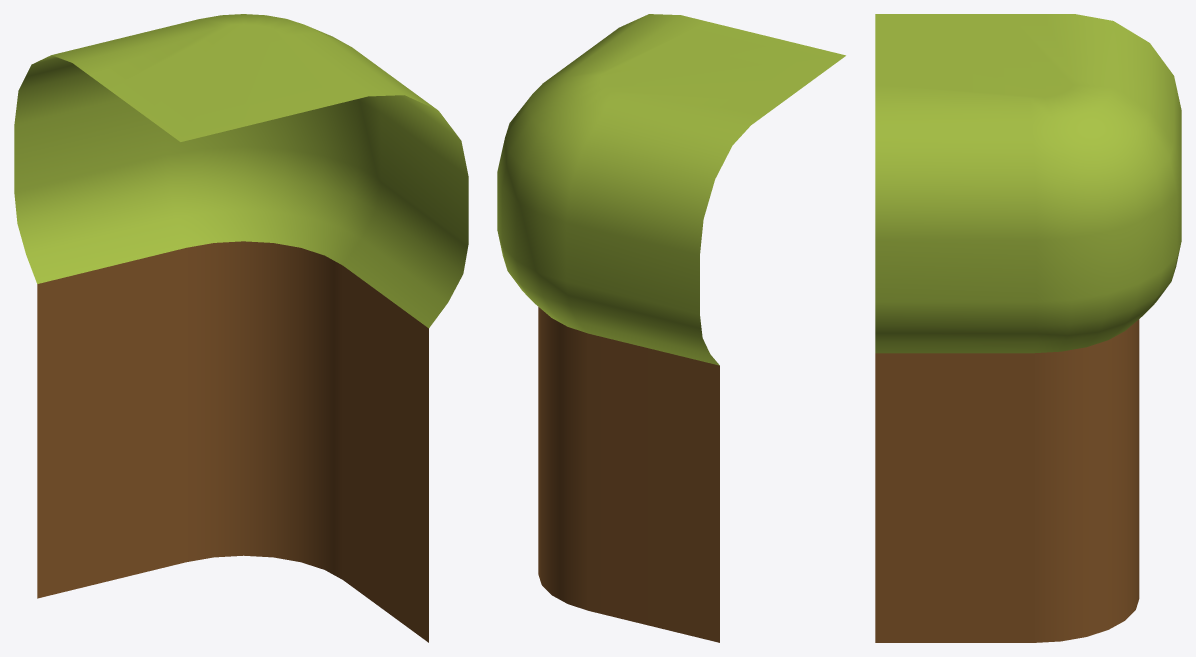
Rendered from QuinaExterna.fbx.
3 views of the same model, side by side, from view 1: azimuth 30°, elevation 25°; view 2: azimuth 150°, elevation 25°; view 3: azimuth 270°, elevation 25° (orthographic). The views are drawn at different scales.
Parts seen in each view (by area): view 1: QuinaExterna1; view 2: QuinaExterna1; view 3: QuinaExterna1.
Part boxes in pixels (x1,y1,x2,y2): QuinaExterna1: [14, 14, 468, 642]; QuinaExterna1: [497, 14, 845, 642]; QuinaExterna1: [875, 14, 1181, 642].
Size of the model in its own units: 58 by 108 by 58.
